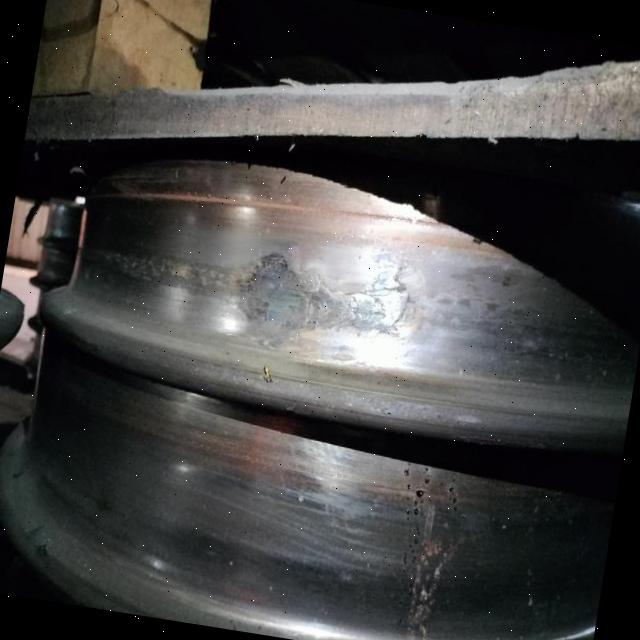Rollerpile: (104, 230, 419, 354)
